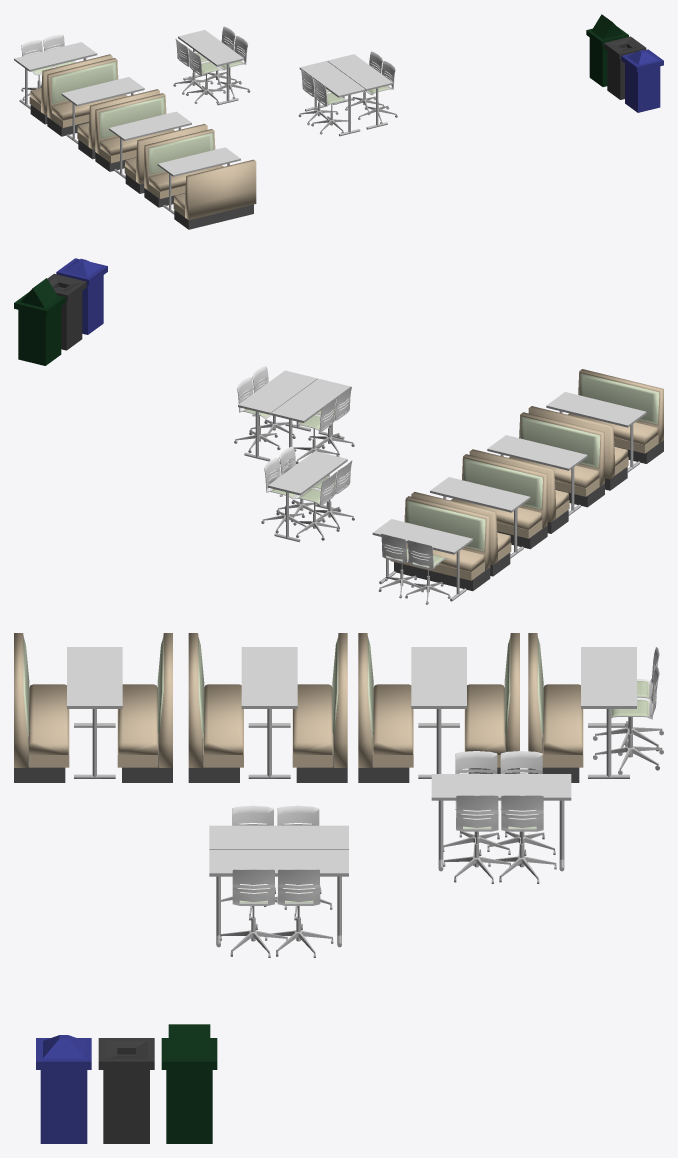
File: COBA 1st Floor Furniture.fbx
3 views of the same model, one above another, from view 1: azimuth 30°, elevation 25°; view 2: azimuth 150°, elevation 25°; view 3: azimuth 270°, elevation 25° (orthographic). The views are drawn at different scales.
Visible parts, largest first — view 1: o_105_booth.001, o_105_booth.005, o_105_booth.004, o_105_booth.000, o_recycle_blue, o_recycle_green, o_105_table.005, o_105_table.004, o_105_table.001, o_105_table.006, o_105_table.000, o_105_table.002 (+15 smaller); view 2: o_105_booth.002, o_105_booth.006, o_105_booth.003, o_105_booth.001, o_recycle_green, o_105_table.005, o_105_table.003, o_105_table.006, o_105_table.000, o_105_table.002, o_105_table.001, o_105_table.004 (+15 smaller); view 3: o_105_booth.003, o_105_booth.006, o_105_booth.001, o_105_booth.004, o_105_booth.000, o_recycle_green, o_105_booth.002, o_recycle_blue, o_recycle_black, o_105_booth.005, o_105_table.002, o_105_table.005 (+15 smaller).
Part boxes in pixels (bbox=[...]): o_105_booth.001: bbox=[173, 159, 256, 229]; o_105_booth.005: bbox=[47, 58, 127, 136]; o_105_booth.004: bbox=[95, 93, 174, 171]; o_105_booth.000: bbox=[144, 129, 223, 207]; o_recycle_blue: bbox=[621, 49, 663, 112]; o_recycle_green: bbox=[586, 14, 628, 86]; o_105_table.005: bbox=[178, 30, 243, 105]; o_105_table.004: bbox=[299, 61, 365, 136]; o_105_table.001: bbox=[14, 42, 97, 109]; o_105_table.006: bbox=[61, 77, 144, 144]; o_105_table.000: bbox=[157, 147, 240, 214]; o_105_table.002: bbox=[109, 111, 191, 178]; o_105_booth.002: bbox=[390, 496, 490, 590]; o_105_booth.006: bbox=[450, 454, 547, 549]; o_105_booth.003: bbox=[509, 412, 604, 507]; o_105_booth.001: bbox=[568, 369, 663, 463]; o_recycle_green: bbox=[14, 278, 65, 365]; o_105_table.005: bbox=[268, 451, 347, 542]; o_105_table.003: bbox=[238, 370, 317, 461]; o_105_table.006: bbox=[430, 477, 530, 558]; o_105_table.000: bbox=[546, 392, 646, 472]; o_105_table.002: bbox=[487, 435, 587, 515]; o_105_table.001: bbox=[372, 519, 472, 601]; o_105_table.004: bbox=[271, 378, 350, 466]; o_105_booth.003: bbox=[188, 633, 243, 782]; o_105_booth.006: bbox=[358, 633, 413, 782]; o_105_booth.001: bbox=[14, 633, 69, 782]; o_105_booth.004: bbox=[292, 633, 347, 782]; o_105_booth.000: bbox=[117, 633, 172, 782]; o_recycle_green: bbox=[161, 1024, 217, 1143]; o_105_booth.002: bbox=[528, 633, 583, 782]; o_recycle_blue: bbox=[36, 1035, 91, 1143]; o_recycle_black: bbox=[98, 1038, 154, 1143]; o_105_booth.005: bbox=[464, 633, 519, 773]; o_105_table.002: bbox=[241, 647, 297, 778]; o_105_table.005: bbox=[431, 774, 571, 871].
Size of the model in its own units: 1086 by 132 by 710.
